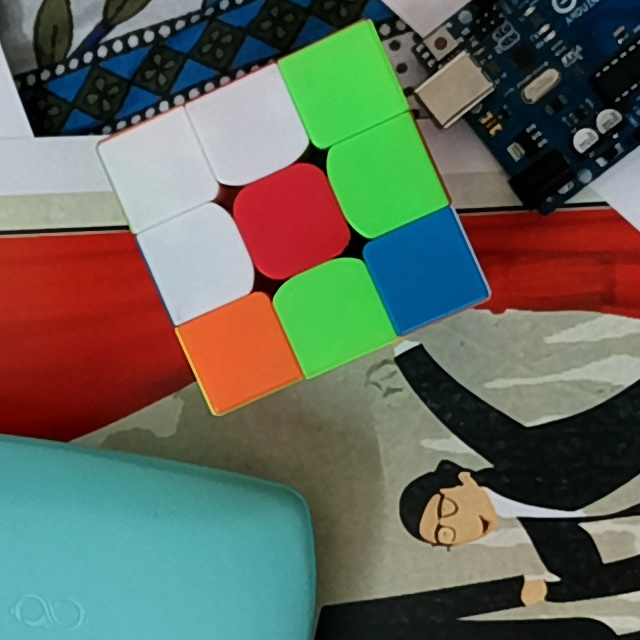tile: (251, 183, 327, 257), (388, 234, 463, 305), (308, 48, 381, 119), (164, 224, 236, 295), (350, 141, 420, 214), (203, 316, 274, 387), (297, 277, 369, 346), (212, 94, 286, 161), (126, 134, 195, 205)
